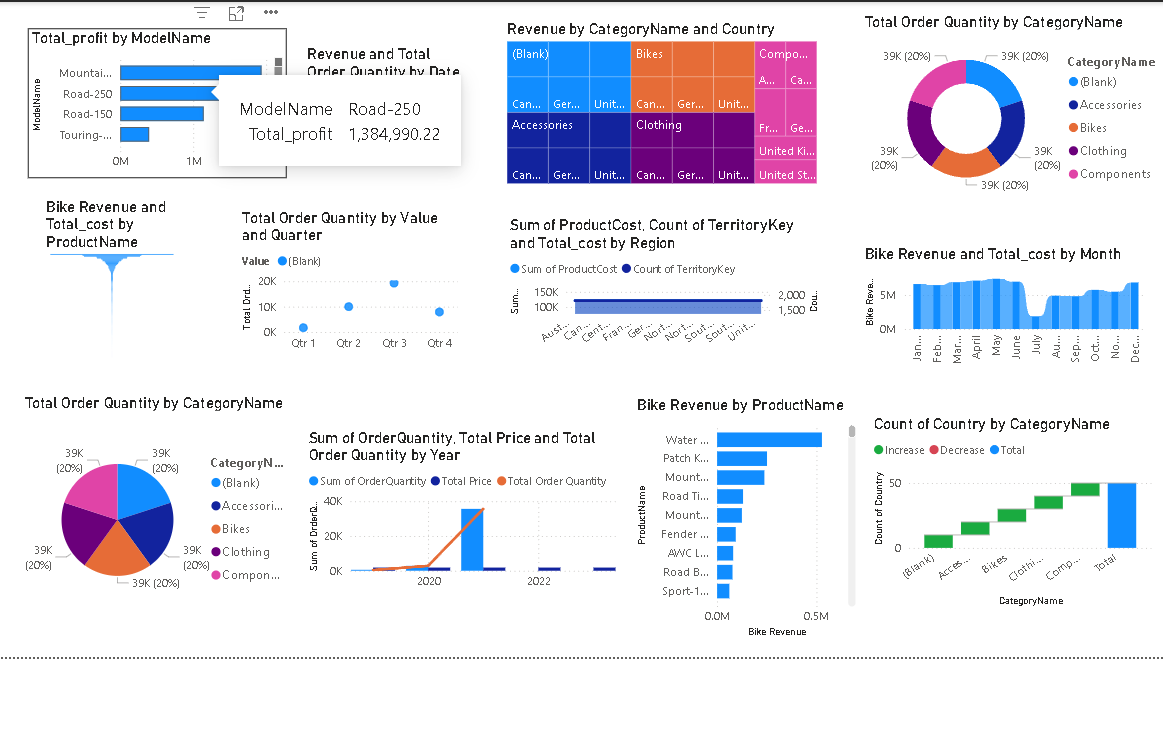

The dashboard page shown, as its layout file describes it:
{"tool":"powerbi","page":{"name":"Multi-Dimensional Sales Analysis Dashboard","canvas":[1280,720],"ordinal":0},"visuals":[{"type":"donutChart","fields":{"Y":["Table.Total Order Quantity"],"Category":["Company Product Categories Lookup.CategoryName"]},"box":[945.5,11,334.8,215.4],"z":0},{"type":"barChart","fields":{"Category":["Product Lookup.ModelName"],"Y":["Table.Total_profit"]},"box":[31.6,28.8,284,164.7],"z":1000},{"type":"pieChart","fields":{"Category":["Company Product Categories Lookup.CategoryName"],"Y":["Table.Total Order Quantity"]},"box":[23.3,429.5,301.9,259.3],"z":2000},{"type":"kpi","fields":{"Indicator":["Table.Revenue"],"Goal":["Table.Total Order Quantity"],"TrendLine":["Calendar Lookup.Date"]},"box":[333.4,46.7,188,111.1],"z":3000},{"type":"waterfallChart","fields":{"Category":["Company Product Categories Lookup.CategoryName"],"Y":["CountNonNull(Company Territory Lookup.Country)"]},"box":[955.1,452.8,315.6,215.4],"z":4000},{"type":"treemap","fields":{"Group":["Company Product Categories Lookup.CategoryName"],"Values":["Table.Revenue"],"Details":["Company Territory Lookup.Country"]},"box":[553,19.2,349.9,185.2],"z":4001},{"type":"funnel","fields":{"Category":["Product Lookup.ProductName"],"Y":["Table.Bike Revenue"]},"box":[46.7,214.1,155.1,192.1],"z":4002},{"type":"ribbonChart","fields":{"Category":["Calendar Lookup.Date.Variation.Date Hierarchy.Month"],"Y":["Table.Bike Revenue"]},"box":[945.5,266.2,319.7,140],"z":4003},{"type":"scatterChart","fields":{"X":["sales data 2020/2021.StockDate.Variation.Date Hierarchy.Quarter","sales data 2020/2021.StockDate.Variation.Date Hierarchy.Month","sales data 2020/2021.StockDate.Variation.Date Hierarchy.Day"],"Y":["Table.Total Order Quantity"],"Series":["Table.Value"]},"box":[262.1,226.4,247,166],"z":4004},{"type":"areaChart","fields":{"Category":["Company Territory Lookup.Region"],"Y":["Sum(Product Lookup.ProductCost)"],"Y2":["CountNonNull(Returns Data.TerritoryKey)"]},"box":[555.7,234.6,349.9,150.9],"z":4005},{"type":"lineClusteredColumnComboChart","fields":{"Category":["sales data 2020/2021.StockDate.Variation.Date Hierarchy.Year","sales data 2020/2021.StockDate.Variation.Date Hierarchy.Quarter","sales data 2020/2021.StockDate.Variation.Date Hierarchy.Month","sales data 2020/2021.StockDate.Variation.Date Hierarchy.Day"],"Y":["Sum(sales data 2020/2021.OrderQuantity)","Table.Total Price"],"Y2":["Table.Total Order Quantity"]},"box":[334.8,467.9,347.2,186.6],"z":4006},{"type":"barChart","fields":{"Category":["Product Lookup.ProductName"],"Y":["Table.Bike Revenue"]},"box":[695.7,432.2,249.7,270.3],"z":4007}]}

Visuals, with their boxes on the page's 1280x720 design canvas (x1, y1, x2, y2). These are canvas units, not pixel positions in the 1163x730 screenshot, which may show the page scaled, cropped or inside an application window:
donutChart - Table.Total Order Quantity x Company Product Categories Lookup.CategoryName: {"x1": 946, "y1": 11, "x2": 1280, "y2": 226}
barChart - Product Lookup.ModelName x Table.Total_profit: {"x1": 32, "y1": 29, "x2": 316, "y2": 194}
pieChart - Company Product Categories Lookup.CategoryName x Table.Total Order Quantity: {"x1": 23, "y1": 430, "x2": 325, "y2": 689}
kpi - Table.Revenue x Table.Total Order Quantity: {"x1": 333, "y1": 47, "x2": 521, "y2": 158}
waterfallChart - Company Product Categories Lookup.CategoryName x CountNonNull(Company Territory Lookup.Country): {"x1": 955, "y1": 453, "x2": 1271, "y2": 668}
treemap - Company Product Categories Lookup.CategoryName x Table.Revenue: {"x1": 553, "y1": 19, "x2": 903, "y2": 204}
funnel - Product Lookup.ProductName x Table.Bike Revenue: {"x1": 47, "y1": 214, "x2": 202, "y2": 406}
ribbonChart - Calendar Lookup.Date.Variation.Date Hierarchy.Month x Table.Bike Revenue: {"x1": 946, "y1": 266, "x2": 1265, "y2": 406}
scatterChart - sales data 2020/2021.StockDate.Variation.Date Hierarchy.Quarter x sales data 2020/2021.StockDate.Variation.Date Hierarchy.Month: {"x1": 262, "y1": 226, "x2": 509, "y2": 392}
areaChart - Company Territory Lookup.Region x Sum(Product Lookup.ProductCost): {"x1": 556, "y1": 235, "x2": 906, "y2": 386}
lineClusteredColumnComboChart - sales data 2020/2021.StockDate.Variation.Date Hierarchy.Year x sales data 2020/2021.StockDate.Variation.Date Hierarchy.Quarter: {"x1": 335, "y1": 468, "x2": 682, "y2": 654}
barChart - Product Lookup.ProductName x Table.Bike Revenue: {"x1": 696, "y1": 432, "x2": 945, "y2": 702}
